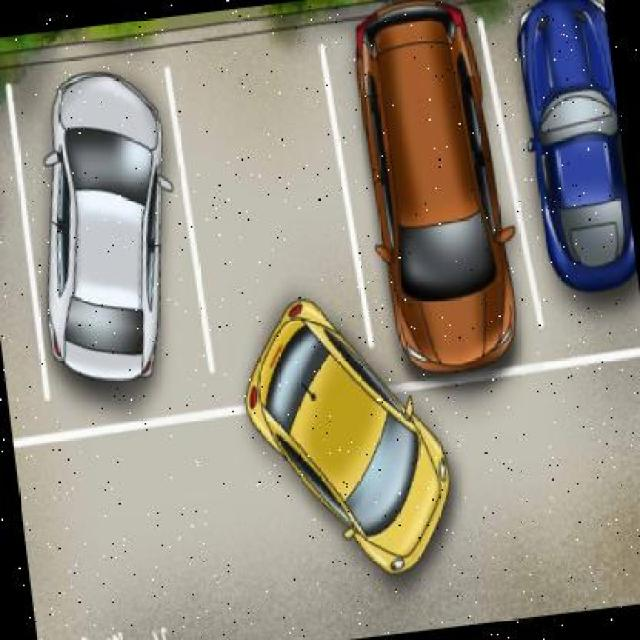Car: (345, 1, 511, 376), (18, 78, 196, 407), (237, 379, 463, 592), (510, 1, 639, 299)
Empty: (192, 57, 336, 300)
